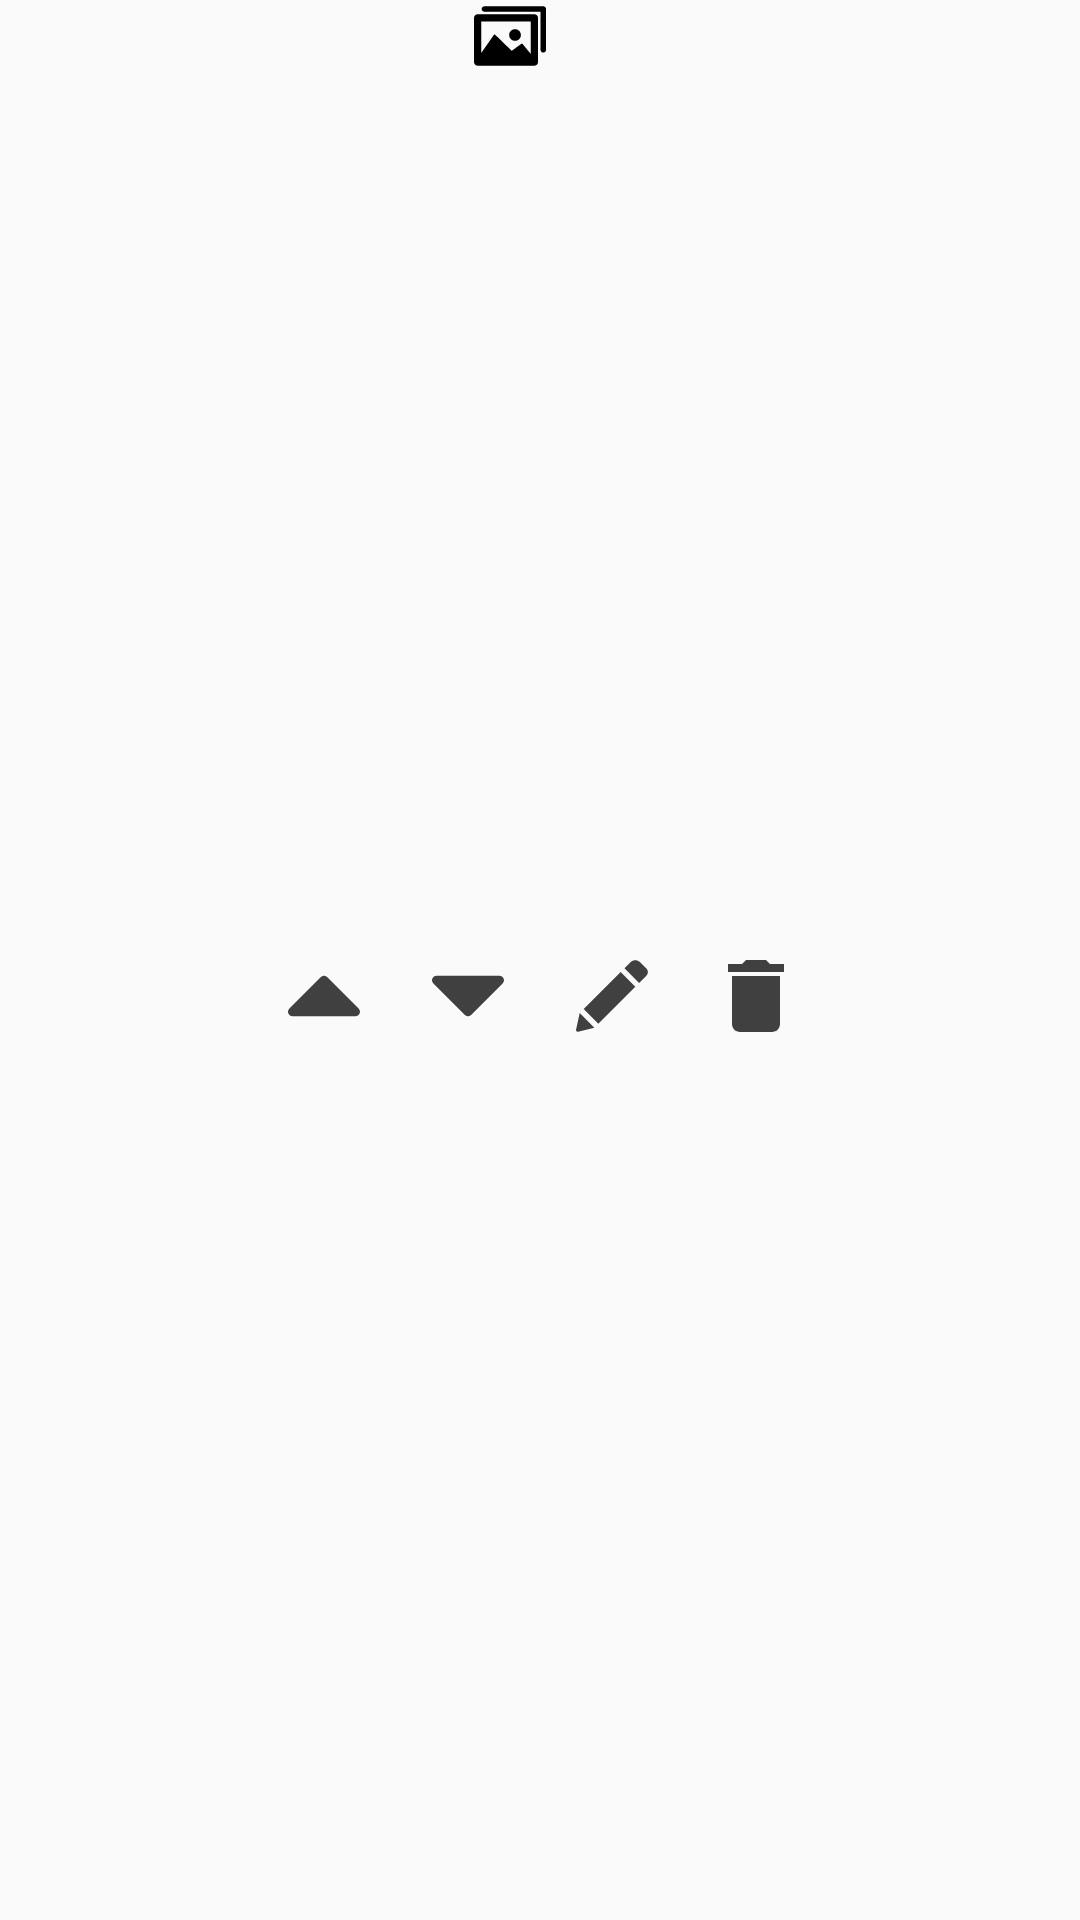

Named icons in this screenshot (1080px x 1920px) and their bounding boxes, (x1, y1, x2, y2):
Delete: (728, 960, 784, 1032)
modify: (576, 960, 648, 1032)
Sort down: (432, 975, 504, 1017)
Sort up: (288, 975, 360, 1017)
